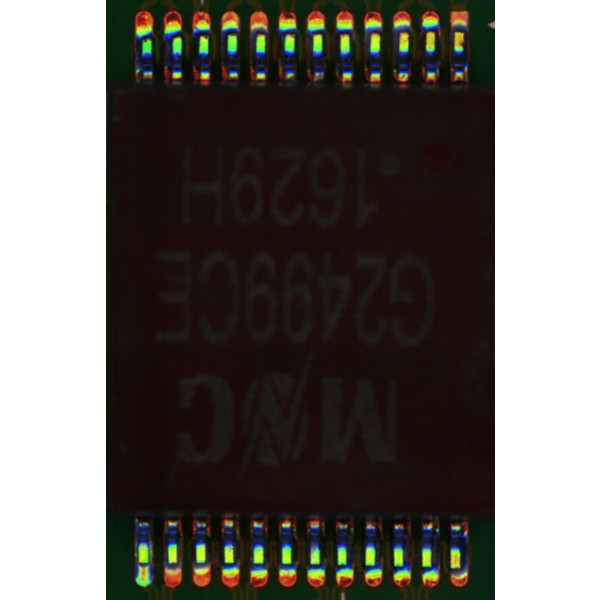Bad_podu: (138, 560, 147, 577)
